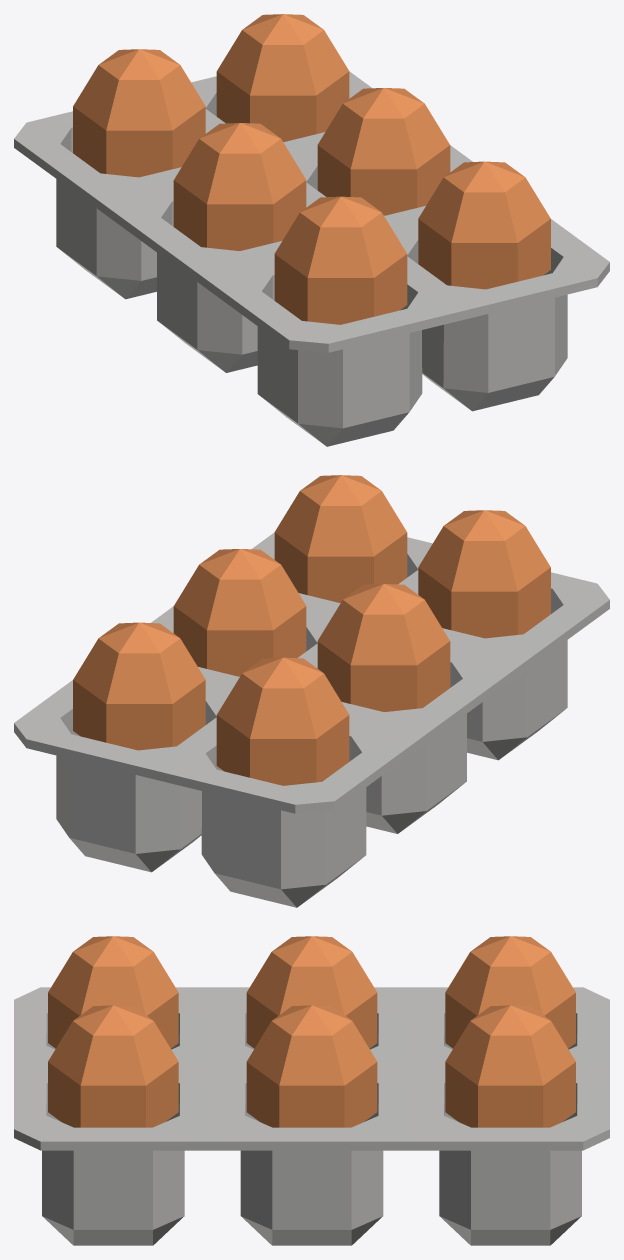
The model's file is Eggs.fbx.
The picture shows the model from 3 angles, top to bottom: view 1: azimuth 30°, elevation 25°; view 2: azimuth 150°, elevation 25°; view 3: azimuth 270°, elevation 25°; orthographic projection.
Visible parts, largest first — view 1: Eggs; view 2: Eggs; view 3: Eggs.
Part boxes in pixels (x1,y1,x2,y2): Eggs: [14, 14, 609, 446]; Eggs: [14, 475, 609, 907]; Eggs: [14, 936, 609, 1245].
Size of the model in its own units: 7.04 by 4.76 by 11.48.
